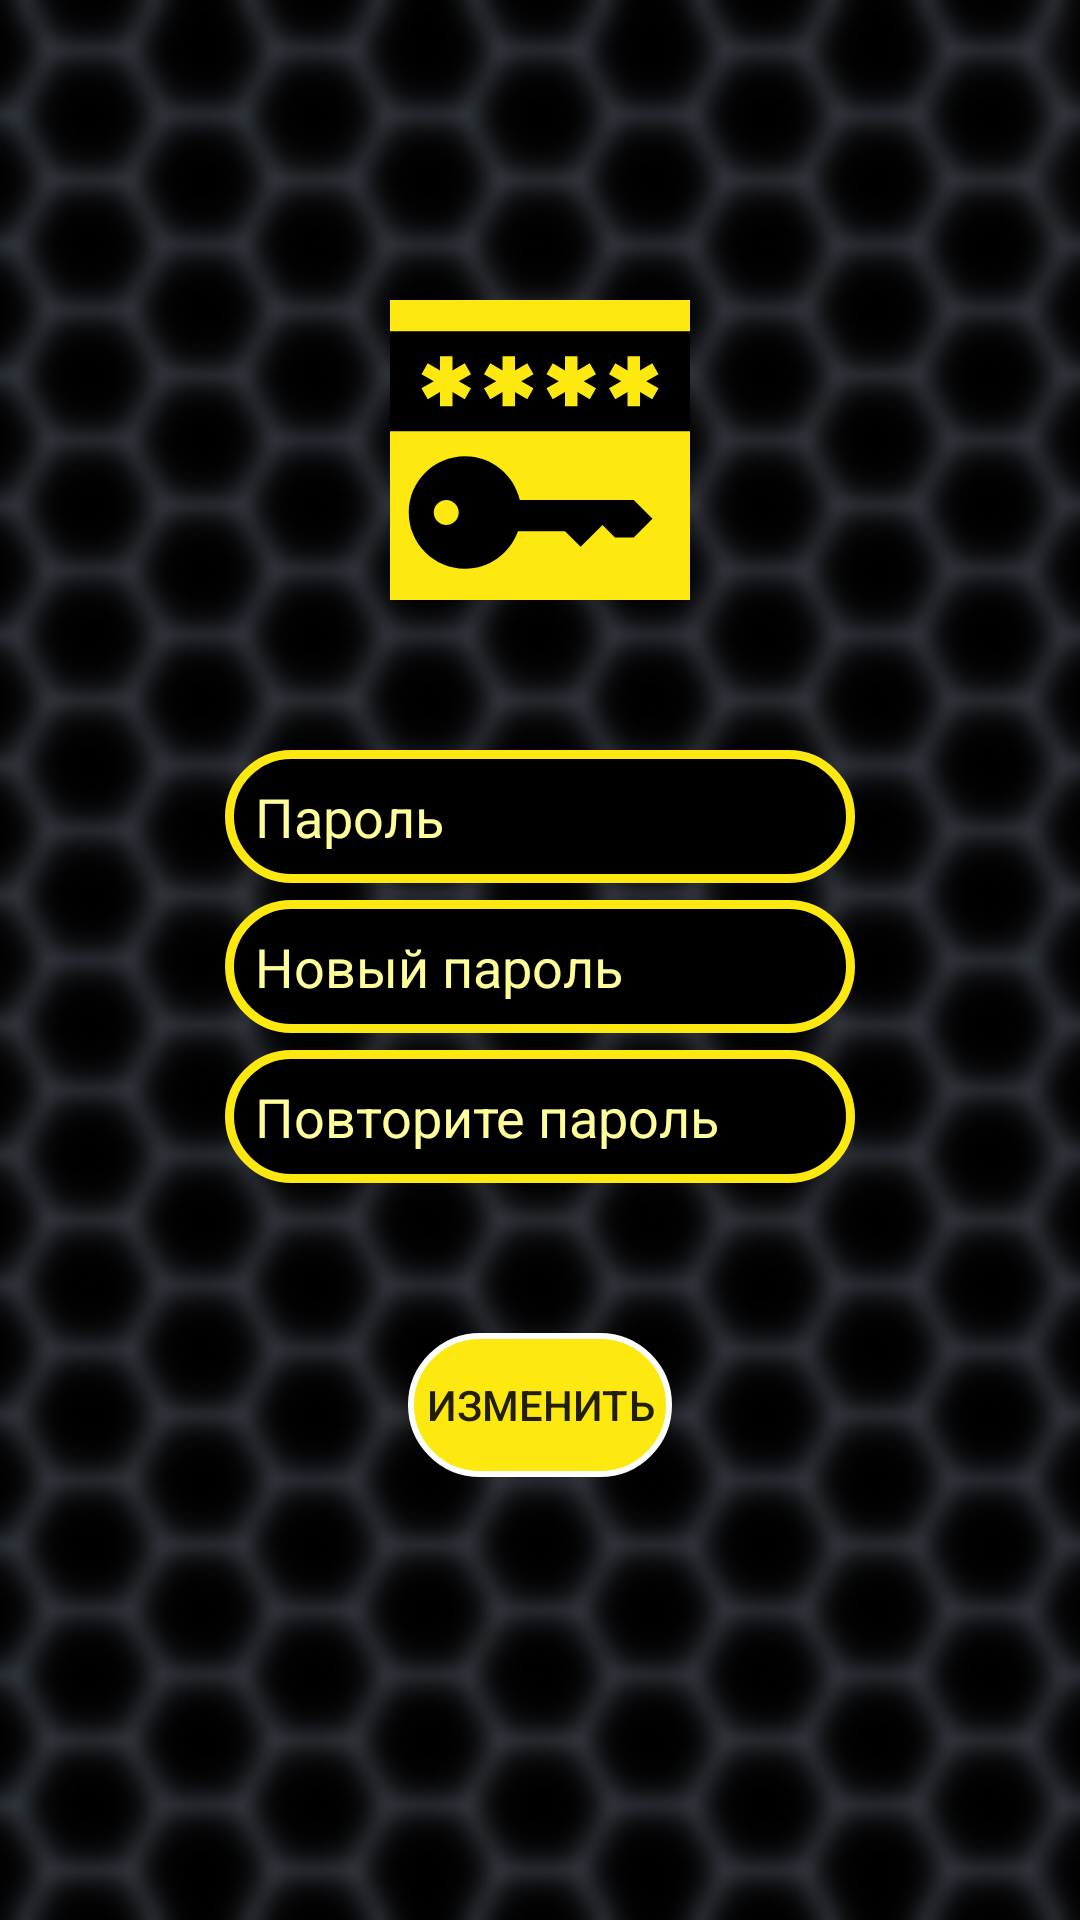

Screen size 1080*1920. Icon name, then its center in pixels as point (x, y):
change password: point (540, 450)
